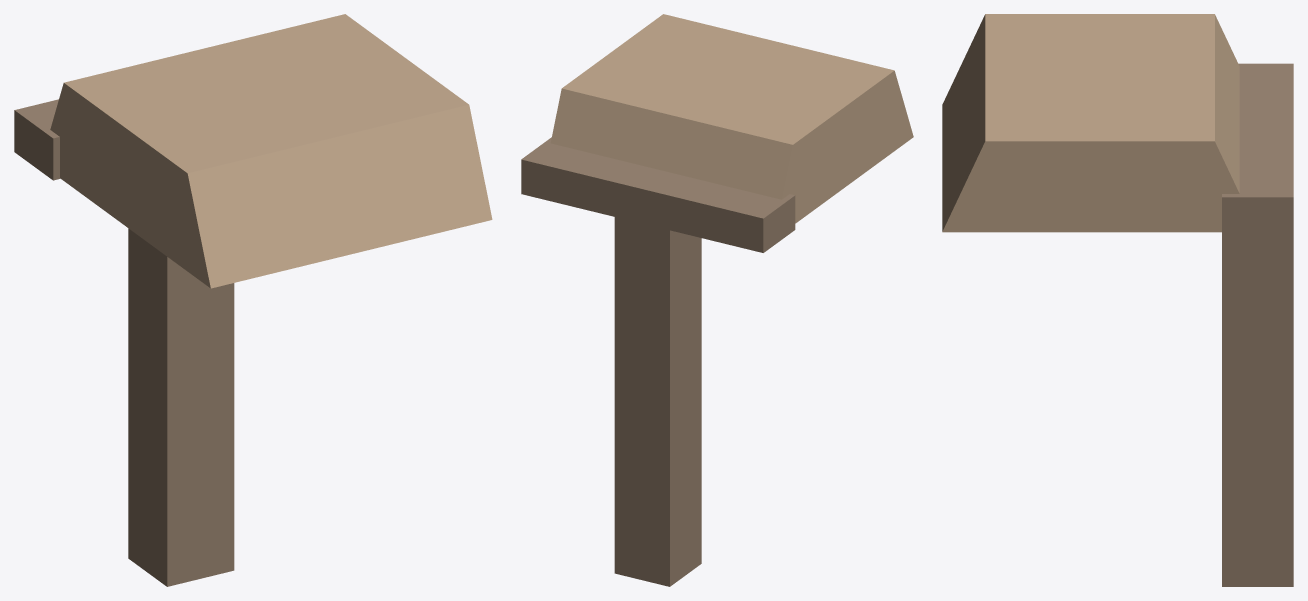
File: saddle-rack.glb
3 views of the same model, side by side, from view 1: azimuth 30°, elevation 25°; view 2: azimuth 150°, elevation 25°; view 3: azimuth 270°, elevation 25° (orthographic). The views are drawn at different scales.
Parts seen in each view (by area): view 1: saddle-rack; view 2: saddle-rack; view 3: saddle-rack.
Part boxes in pixels (bbox=[...]): saddle-rack: bbox=[14, 14, 492, 586]; saddle-rack: bbox=[521, 14, 913, 586]; saddle-rack: bbox=[942, 14, 1293, 586].
Size of the model in its own units: 0.44 by 0.76 by 0.49.
